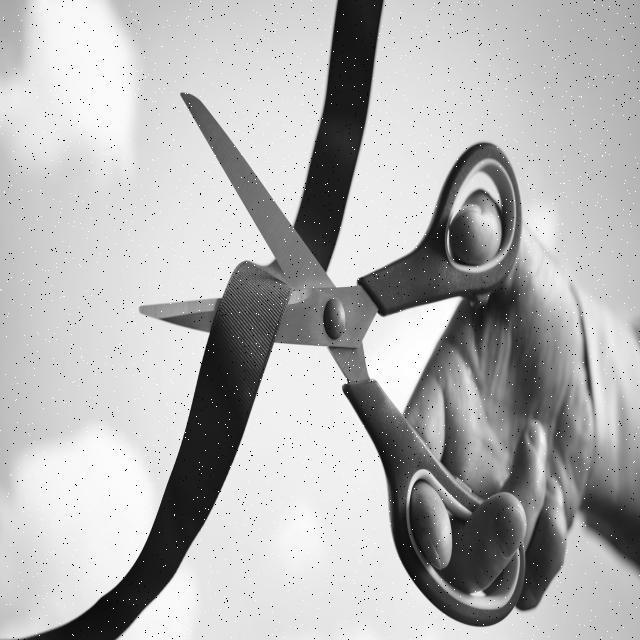scissors: (132, 83, 530, 630)
